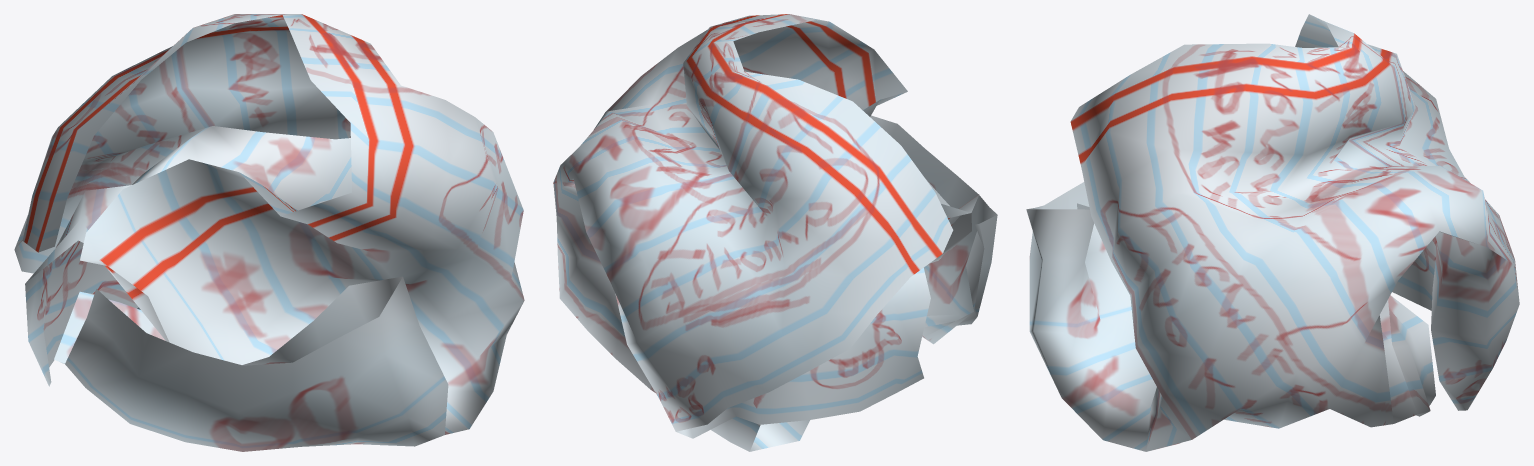
File: paper.fbx
The picture shows the model from 3 angles, left to right: view 1: azimuth 30°, elevation 25°; view 2: azimuth 150°, elevation 25°; view 3: azimuth 270°, elevation 25°; orthographic projection. The views are drawn at different scales.
Visible parts, largest first — view 1: Paper_Plane_003; view 2: Paper_Plane_003; view 3: Paper_Plane_003.
Boxes of the visible parts, x1,y1,x2,y2 form: Paper_Plane_003: (14,14,524,451); Paper_Plane_003: (553,14,997,451); Paper_Plane_003: (1026,14,1519,451).
Bounding box in the file's own units: 1.41 × 1.22 × 1.39.
1 material, 1 textured.
